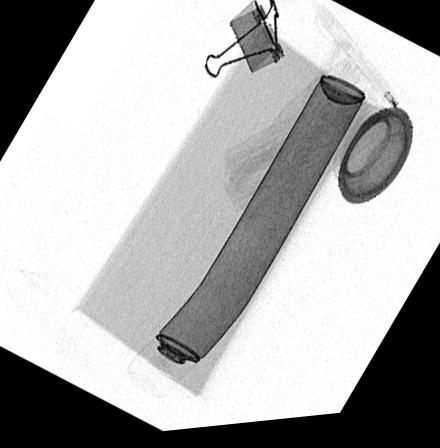Sprayer: (123, 81, 365, 402)
